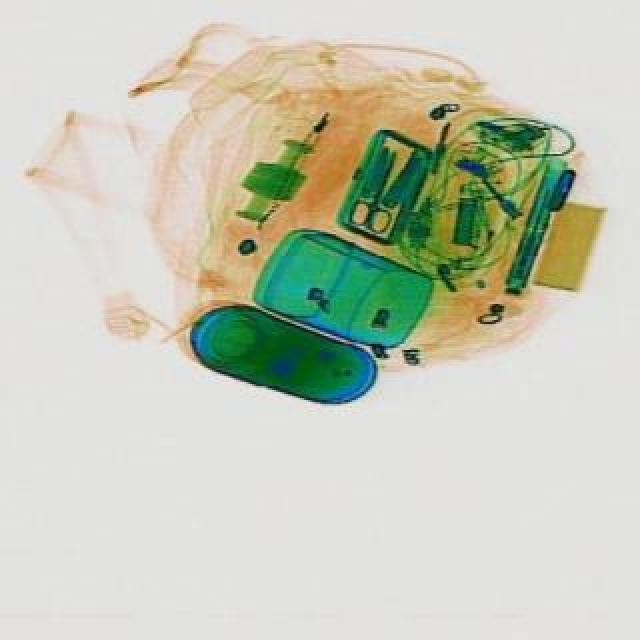pliers: (340, 144, 412, 236)
